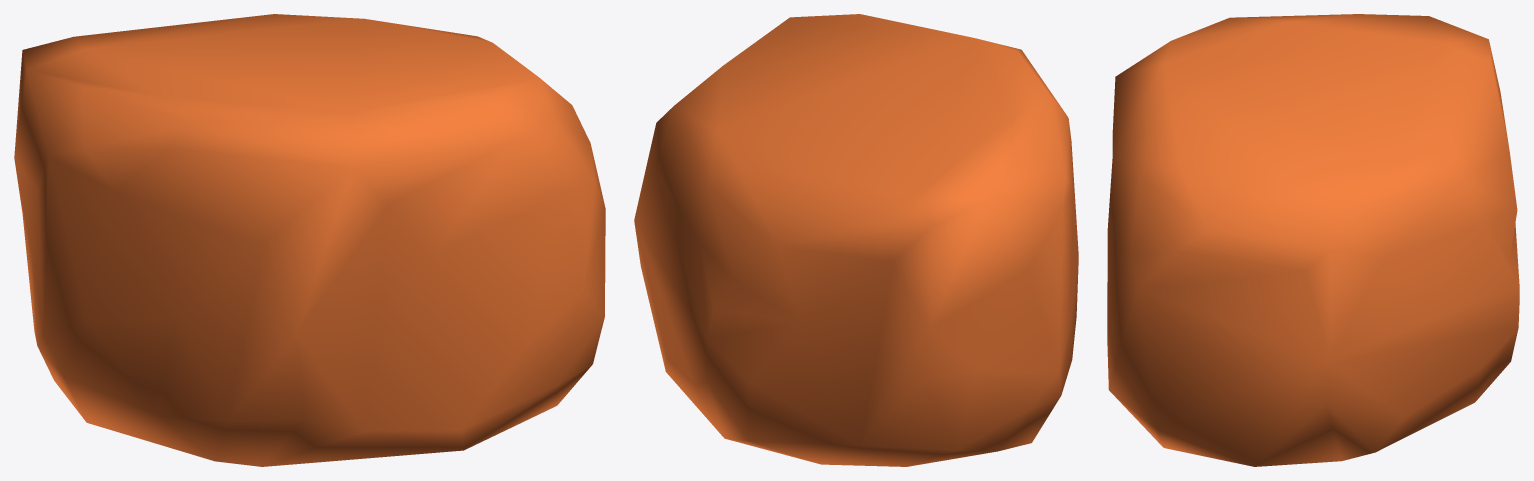
File: Rock2.fbx
The picture shows the model from 3 angles, left to right: view 1: azimuth 30°, elevation 25°; view 2: azimuth 150°, elevation 25°; view 3: azimuth 270°, elevation 25°; orthographic projection. The views are drawn at different scales.
Parts seen in each view (by area): view 1: detailrock5; view 2: detailrock5; view 3: detailrock5.
Part boxes in pixels (x1,y1,x2,y2): detailrock5: [14, 14, 605, 466]; detailrock5: [634, 14, 1078, 466]; detailrock5: [1107, 14, 1519, 466].
Bounding box in the file's own units: 150 × 101 × 127.
